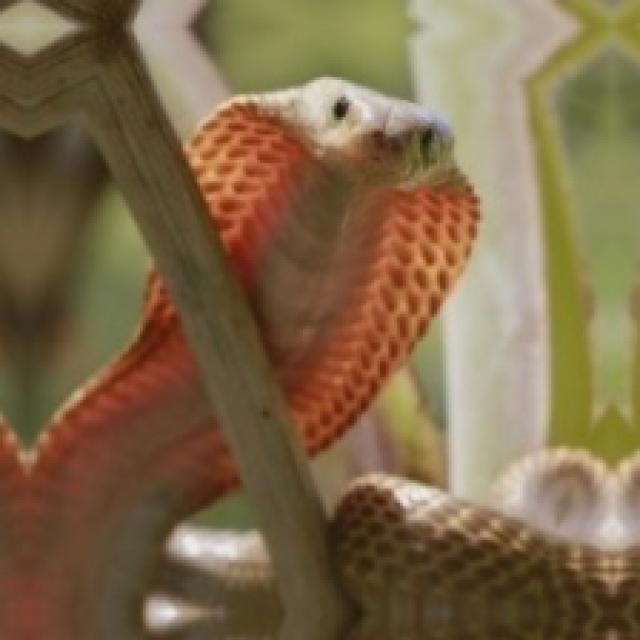philippine cobra: (189, 77, 477, 451), (0, 274, 234, 637), (331, 474, 637, 637), (334, 480, 637, 637)
